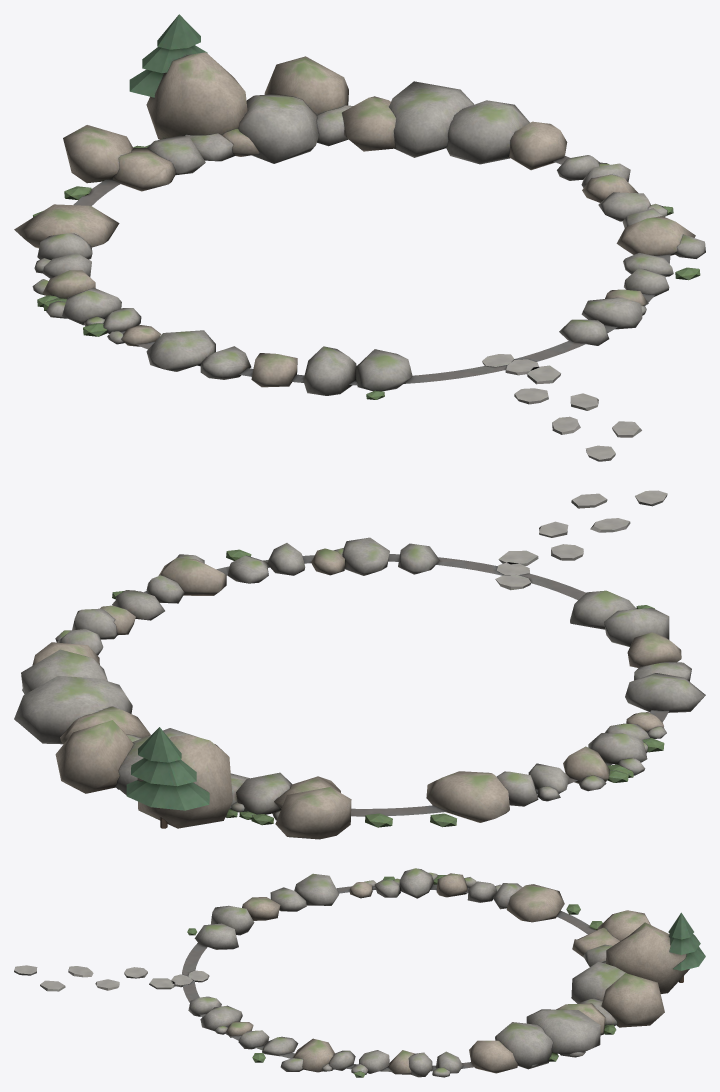
File: rotenburo.glb
The picture shows the model from 3 angles, top to bottom: view 1: azimuth 30°, elevation 25°; view 2: azimuth 150°, elevation 25°; view 3: azimuth 270°, elevation 25°; orthographic projection. The views are drawn at different scales.
Parts seen in each view (by area): view 1: rotenburo; view 2: rotenburo; view 3: rotenburo.
Part boxes in pixels (x1=…): rotenburo: x1=14, y1=14, x2=705, y2=461; rotenburo: x1=14, y1=490, x2=705, y2=839; rotenburo: x1=14, y1=868, x2=705, y2=1077.
Bounding box in the file's own units: 16.6 × 2.82 × 24.
1 material, 1 textured.
